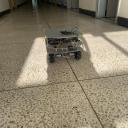cart: (44, 27, 83, 63)
